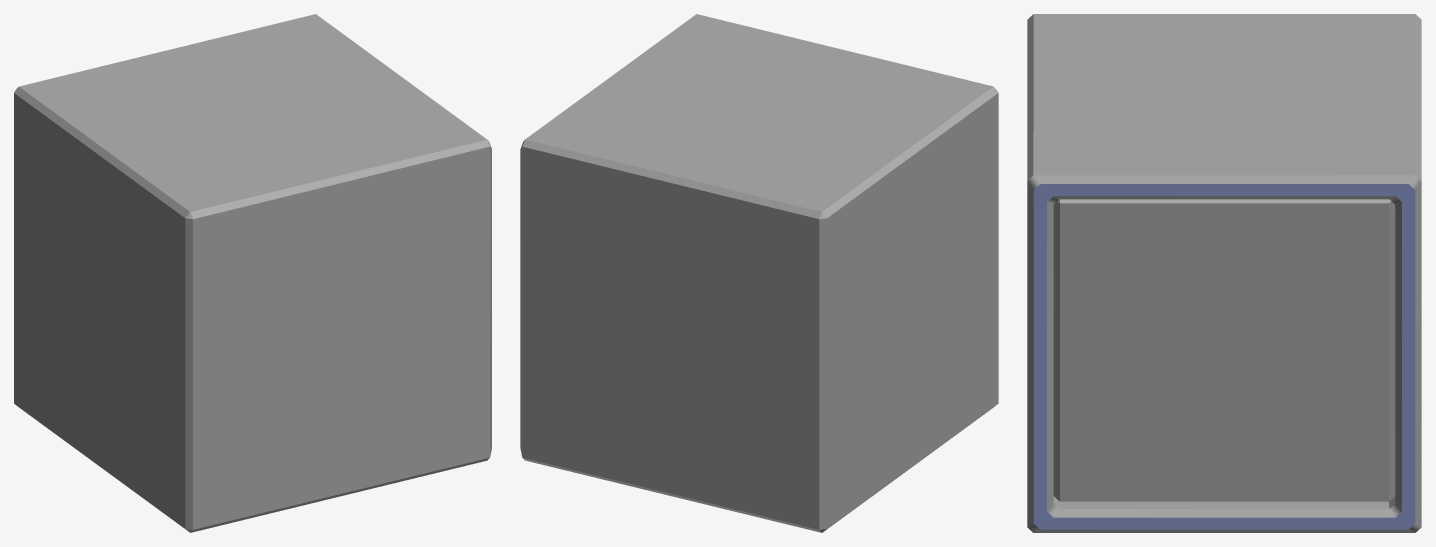
Rendered from Block.fbx.
3 views of the same model, side by side, from view 1: azimuth 30°, elevation 25°; view 2: azimuth 150°, elevation 25°; view 3: azimuth 270°, elevation 25° (orthographic). The views are drawn at different scales.
Visible parts, largest first — view 1: Block; view 2: Block; view 3: Block.
Boxes of the visible parts, bbox=[...] form: Block: bbox=[14, 14, 491, 532]; Block: bbox=[520, 14, 998, 532]; Block: bbox=[1027, 14, 1421, 532].
Bounding box in the file's own units: 1 × 1 × 1.
